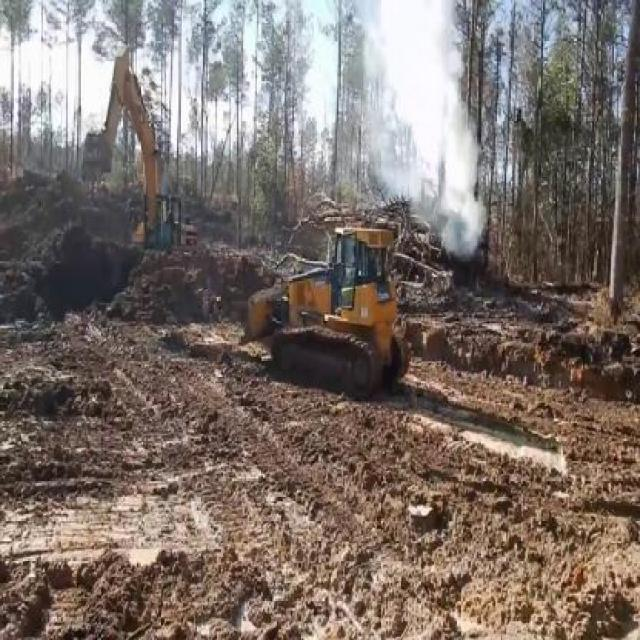Excavator: (76, 44, 195, 250)
